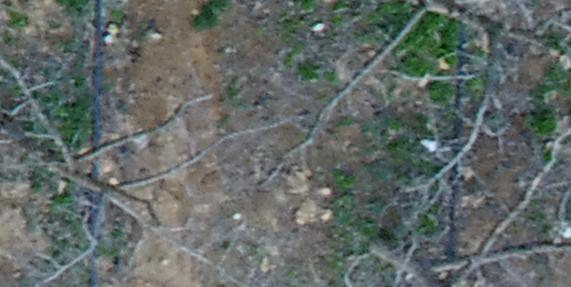apple: (264, 10, 561, 216)
